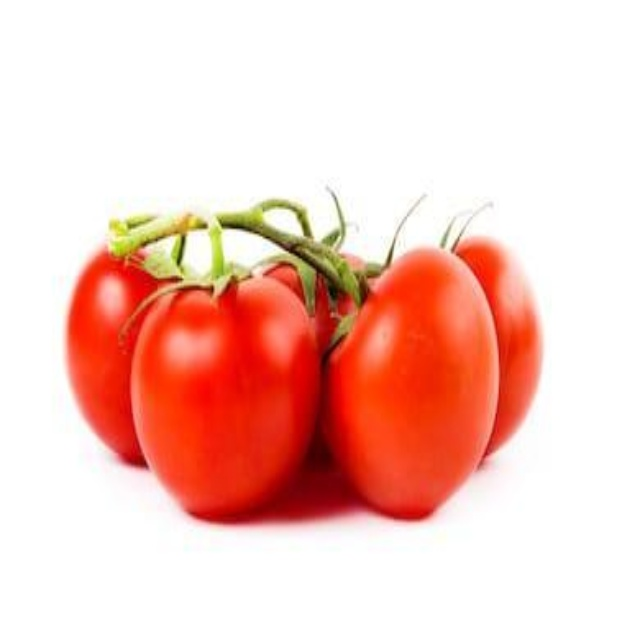tomato: (137, 280, 309, 517), (330, 264, 488, 507), (441, 228, 561, 457), (74, 230, 180, 467)
